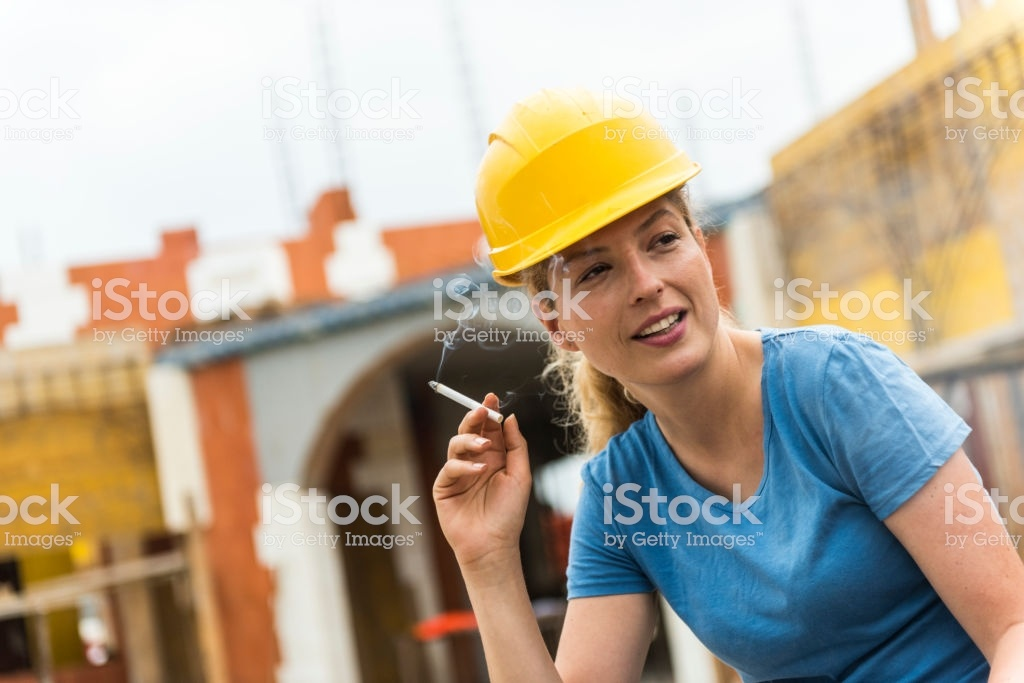sigaretta: (423, 383, 515, 424)
